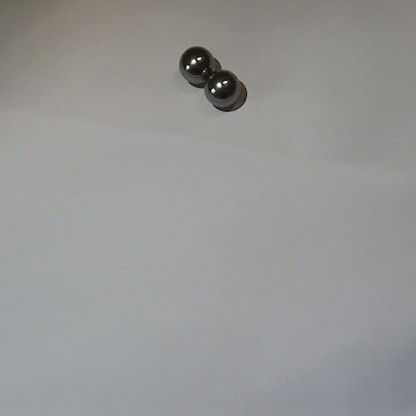ironball: (202, 69, 242, 110), (177, 46, 217, 83)
